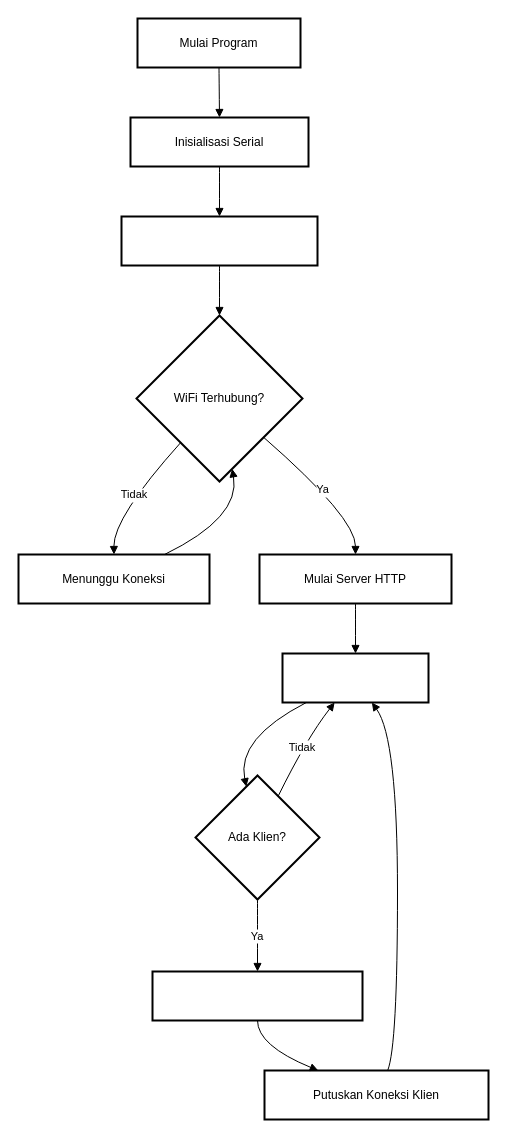
Image size: 506x1137. Some labels were removed from this diagram. Here are the shapes that lost their labels. From the top down, the centre of each, then its label:
At pixel 219 240: "Hubungkan ke WiFi".
At pixel 355 677: "Loop Utama".
At pixel 257 995: "Kirim Halaman HTML".
